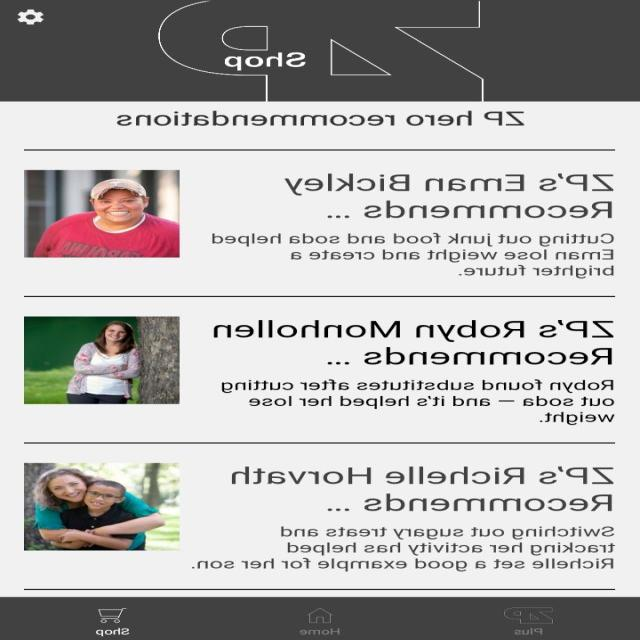Icon: (99, 607, 129, 622), (306, 607, 334, 623), (18, 10, 44, 24)
Image: (160, 0, 484, 101), (24, 169, 180, 258), (24, 462, 180, 550), (24, 316, 180, 404), (503, 606, 554, 623)
Text: (192, 526, 616, 571), (212, 232, 614, 278), (221, 379, 615, 425), (213, 320, 614, 364), (232, 466, 614, 511), (284, 172, 614, 218), (117, 111, 526, 126), (225, 52, 307, 71), (97, 627, 131, 636), (300, 628, 342, 635), (514, 627, 544, 635)
